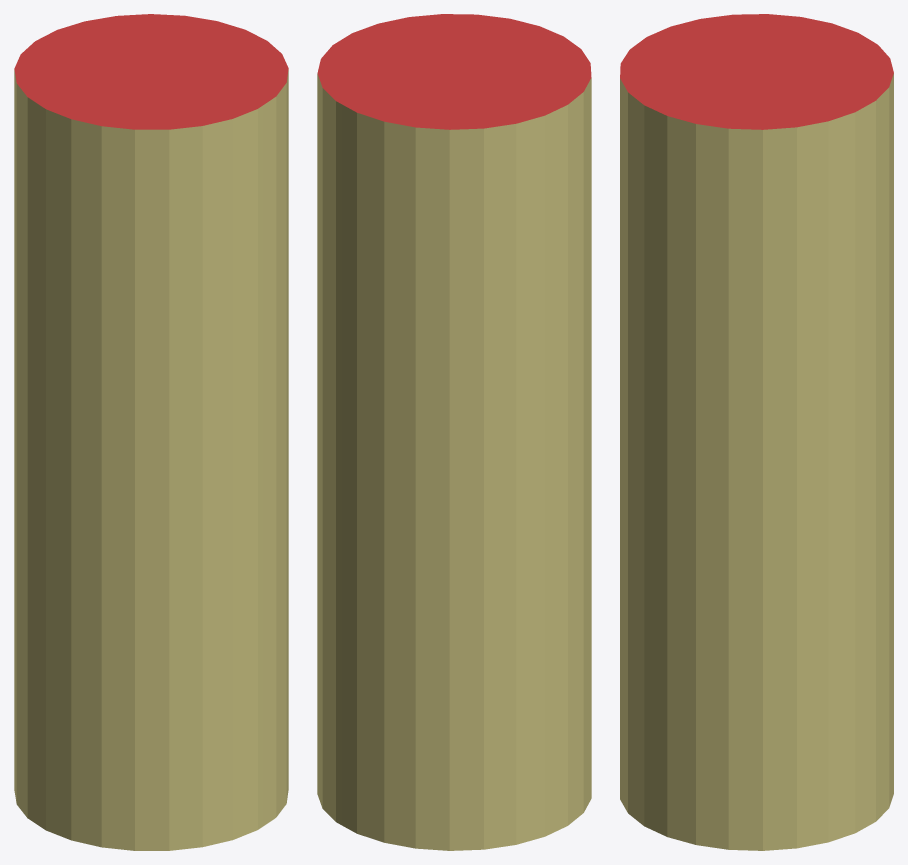
The picture shows the model from 3 angles, left to right: view 1: azimuth 30°, elevation 25°; view 2: azimuth 150°, elevation 25°; view 3: azimuth 270°, elevation 25°; orthographic projection.
Size of the model in its own units: 4.31 by 4.31 by 12.5.
